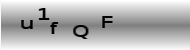1: (37, 7, 50, 21)
F: (101, 15, 114, 29)
Q: (71, 24, 89, 40)
f: (49, 21, 59, 36)
u: (19, 19, 34, 30)
